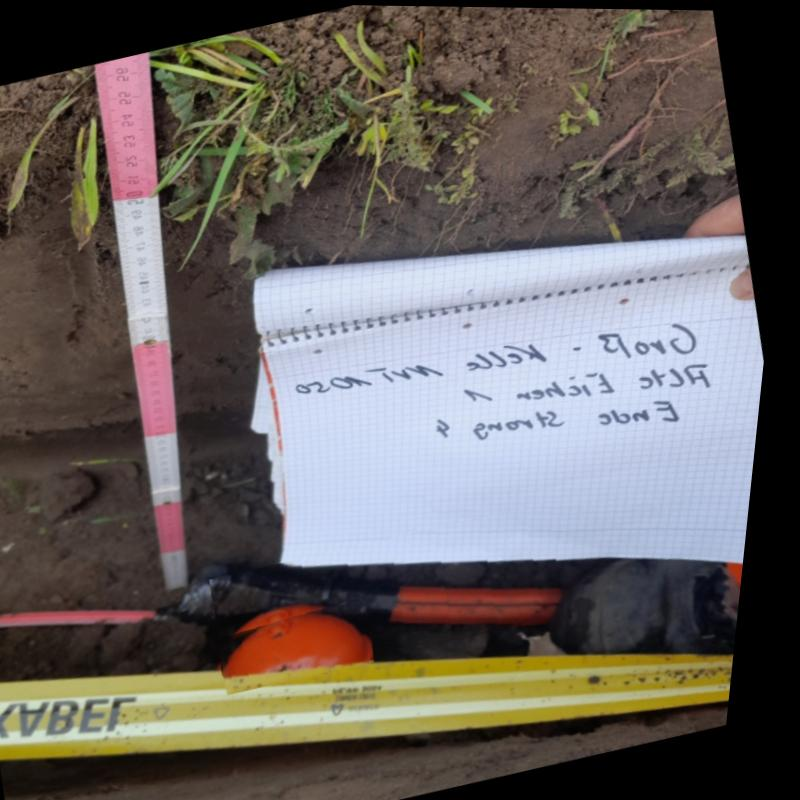Kugelmarker: (237, 614, 387, 677)
Orang-Speednetrohrchen: (228, 570, 573, 618)
